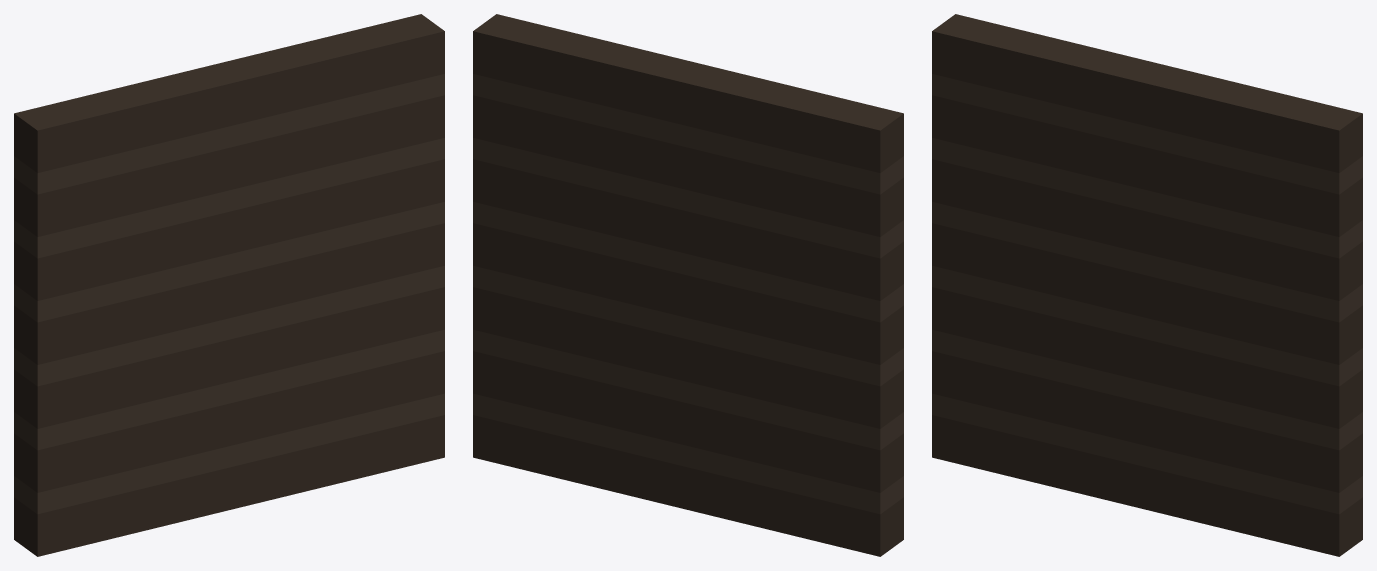
File: plainDoor.obj
3 views of the same model, side by side, from view 1: azimuth 30°, elevation 25°; view 2: azimuth 150°, elevation 25°; view 3: azimuth 330°, elevation 25° (orthographic).
Bounding box in the file's own units: 2 × 2 × 0.2.
Materials: 1 (1 with a texture image).
